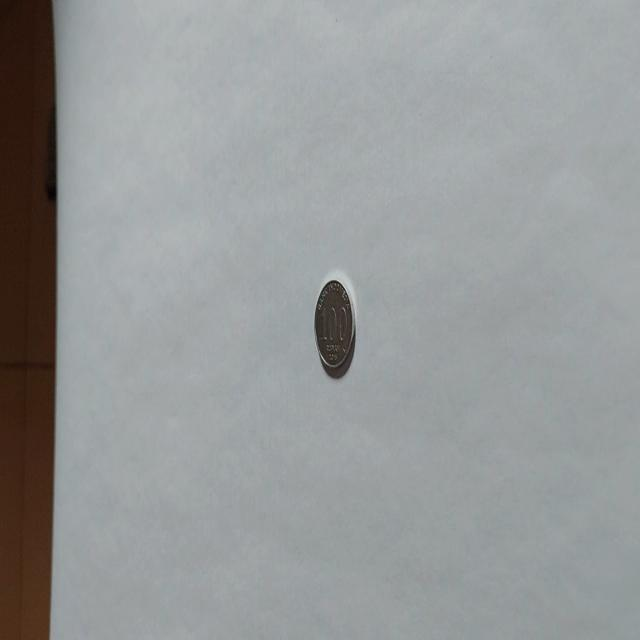seratus rupiah: (312, 276, 356, 378)
